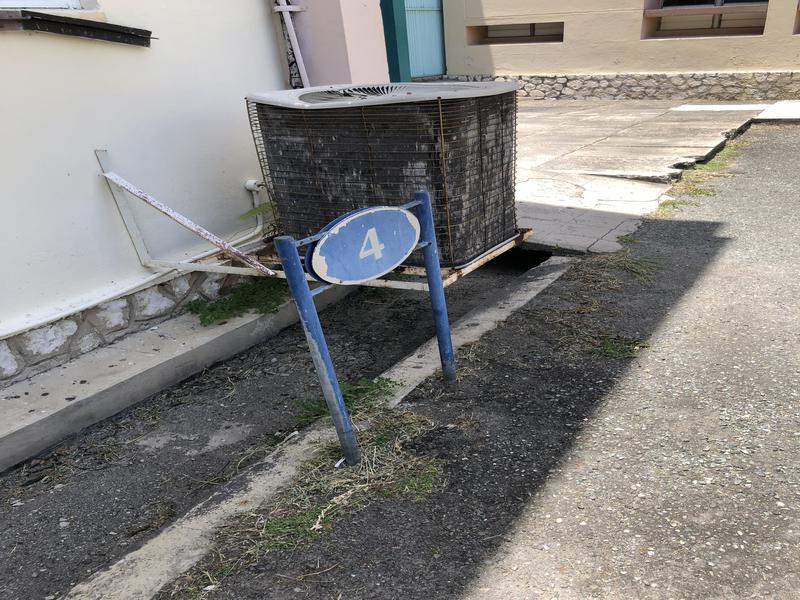18.0053530_-76.7490375_signatentrancetoscitech: (247, 182, 507, 457)
